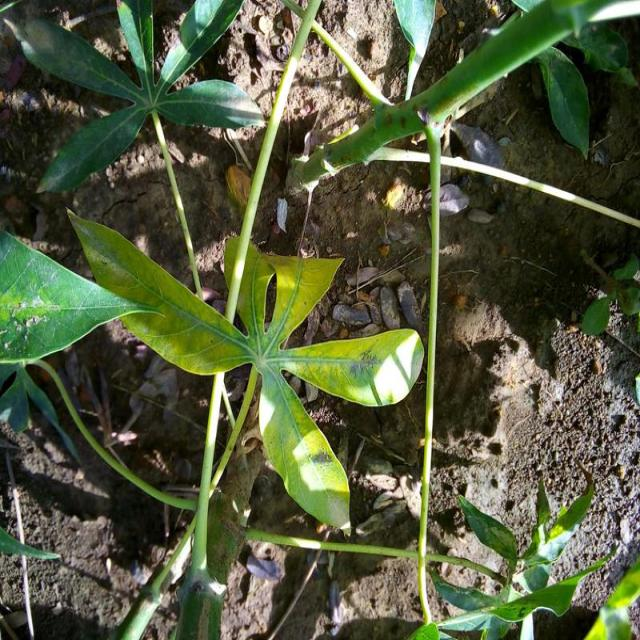cassava leaf: (66, 206, 426, 534), (1, 228, 163, 365)
